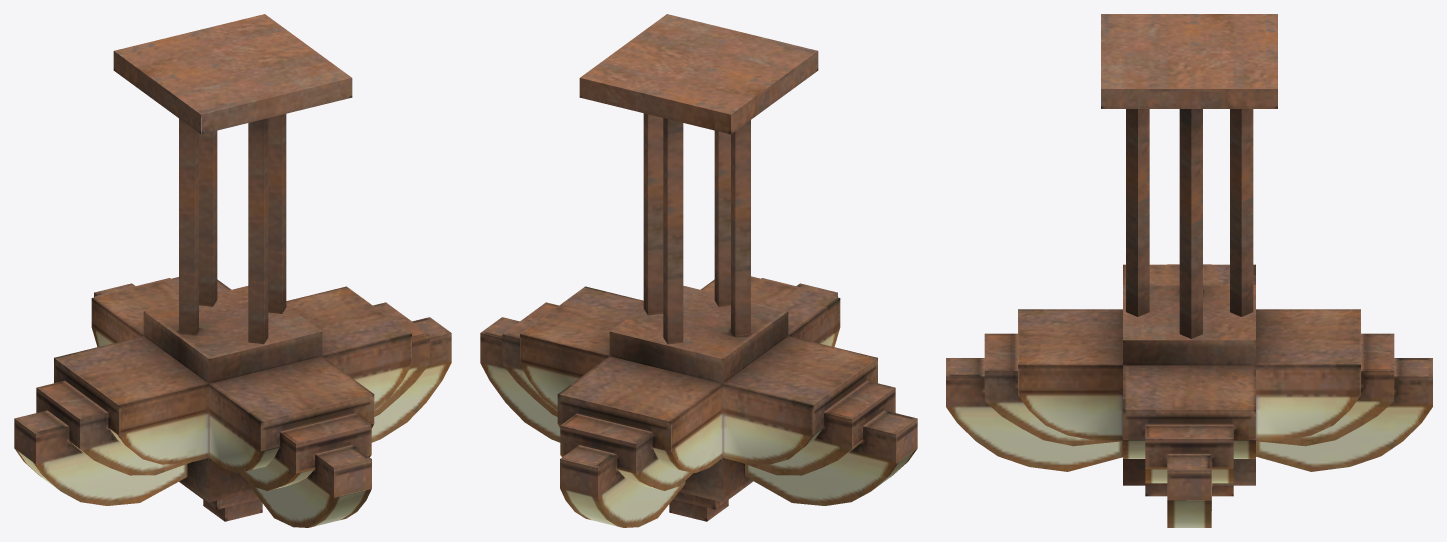
Rendered from light_ceiling.glb.
The picture shows the model from 3 angles, left to right: view 1: azimuth 30°, elevation 25°; view 2: azimuth 150°, elevation 25°; view 3: azimuth 270°, elevation 25°; orthographic projection.
Visible parts, largest first — view 1: light_ceiling; view 2: light_ceiling; view 3: light_ceiling.
Boxes of the visible parts, left/top/right/bottom form: light_ceiling: left=14, top=14, right=451, bottom=527; light_ceiling: left=480, top=14, right=917, bottom=527; light_ceiling: left=946, top=14, right=1432, bottom=527.
Size of the model in its own units: 88 by 90 by 88.
1 material, 1 textured.
